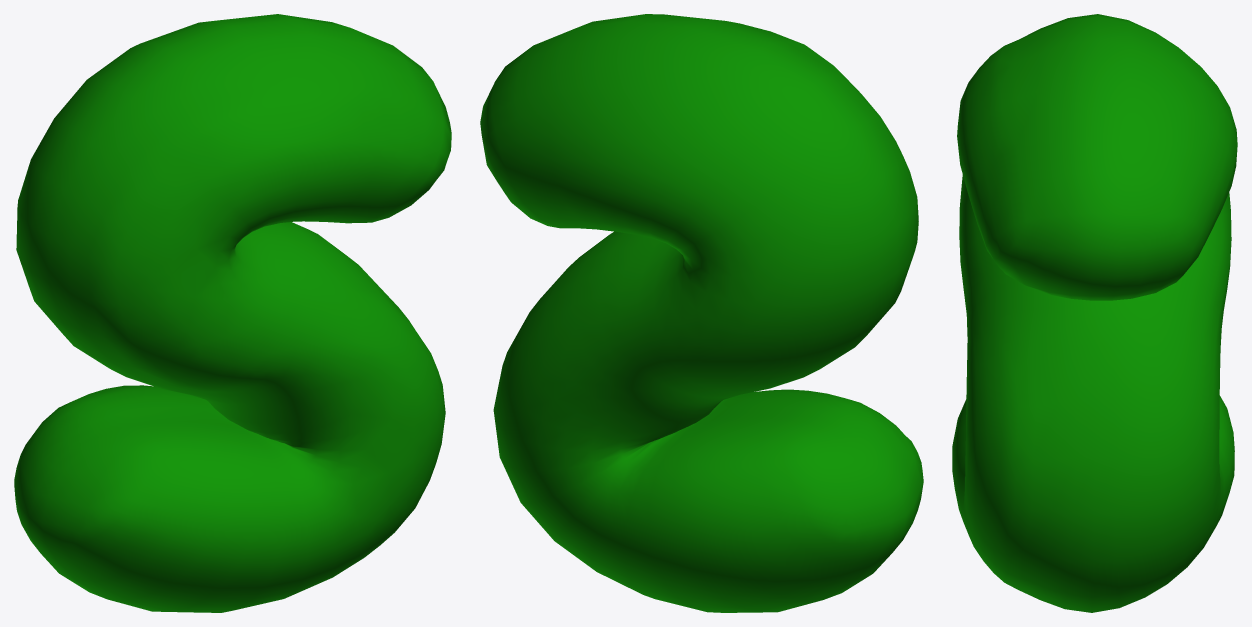
3 renders of one model, left to right at view 1: azimuth 30°, elevation 25°; view 2: azimuth 150°, elevation 25°; view 3: azimuth 270°, elevation 25°, orthographic. The views are drawn at different scales.
Parts seen in each view (by area): view 1: Object_40; view 2: Object_40; view 3: Object_40.
Boxes of the visible parts, x1,y1,x2,y2 form: Object_40: [14, 14, 451, 612]; Object_40: [480, 14, 923, 612]; Object_40: [952, 14, 1237, 612].
Size of the model in its own units: 72.47 by 95.86 by 45.
